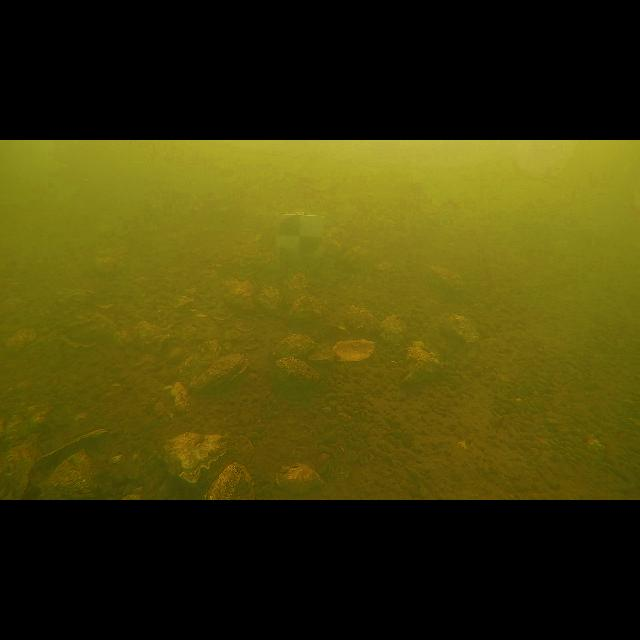Oyster-Closed: (165, 432, 231, 482), (186, 351, 248, 396), (0, 434, 41, 499), (43, 448, 96, 498), (205, 462, 255, 500), (402, 340, 441, 385), (180, 339, 221, 379), (276, 464, 324, 494), (68, 312, 116, 342), (274, 356, 320, 386), (345, 306, 385, 332), (92, 248, 129, 275), (222, 279, 254, 310), (134, 321, 172, 346), (426, 266, 462, 292), (445, 315, 478, 342), (289, 296, 322, 322), (258, 285, 282, 315), (6, 329, 38, 350), (58, 288, 96, 305), (288, 272, 309, 300)
Oyster-Open: (27, 426, 111, 477), (332, 339, 375, 361)
